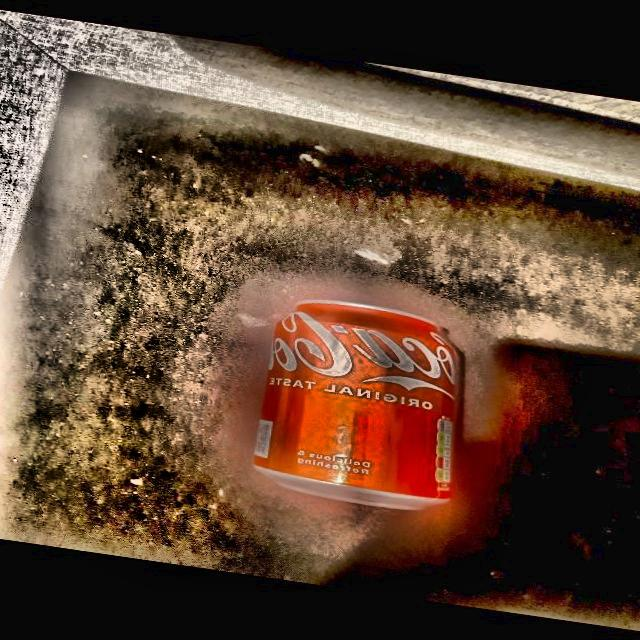coke-can: (258, 293, 462, 520)
